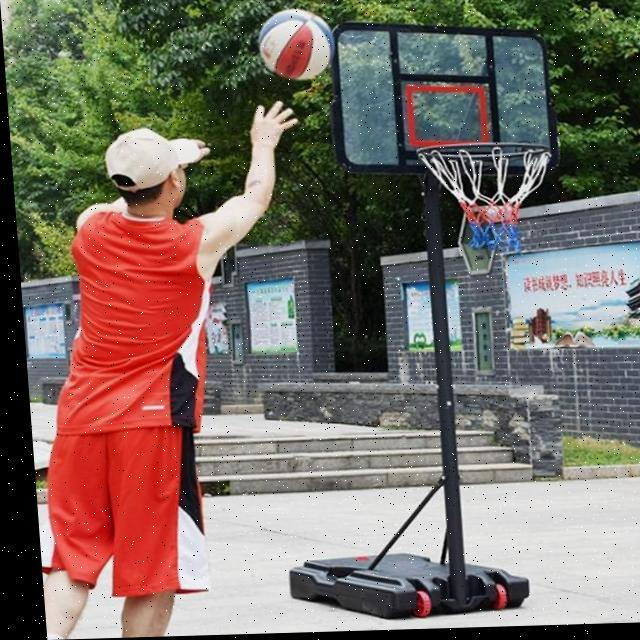basketball: (257, 8, 338, 82)
hoop: (415, 141, 554, 257)
